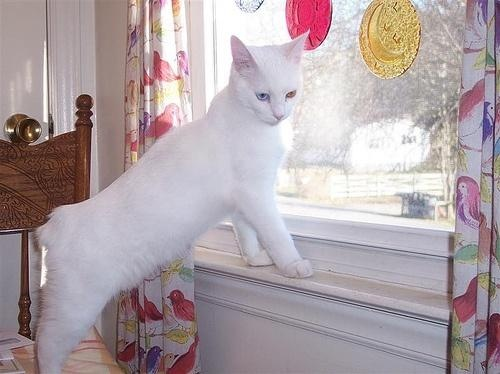cat: (33, 32, 314, 373)
chair: (1, 95, 124, 374)
